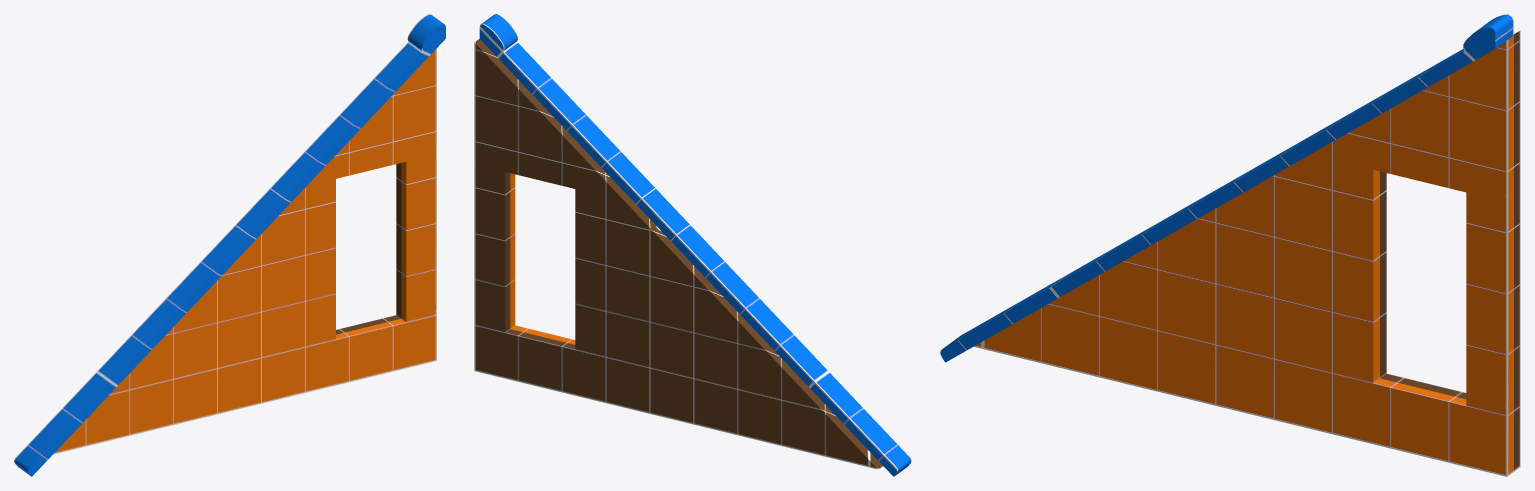
Rendered from M01Roof01_2WindowTypeF.FBX.
The picture shows the model from 3 angles, left to right: view 1: azimuth 30°, elevation 25°; view 2: azimuth 150°, elevation 25°; view 3: azimuth 330°, elevation 25°; orthographic projection. The views are drawn at different scales.
Visible parts, largest first — view 1: M01Roof01_2WindowTypeF; view 2: M01Roof01_2WindowTypeF; view 3: M01Roof01_2WindowTypeF.
Boxes of the visible parts, box(x1,y1,x2,y2) form: M01Roof01_2WindowTypeF: box(14, 14, 445, 476); M01Roof01_2WindowTypeF: box(474, 14, 911, 476); M01Roof01_2WindowTypeF: box(940, 14, 1520, 476).
Size of what is drawn, in the model's own units: 4.76 by 3.84 by 0.3758.
